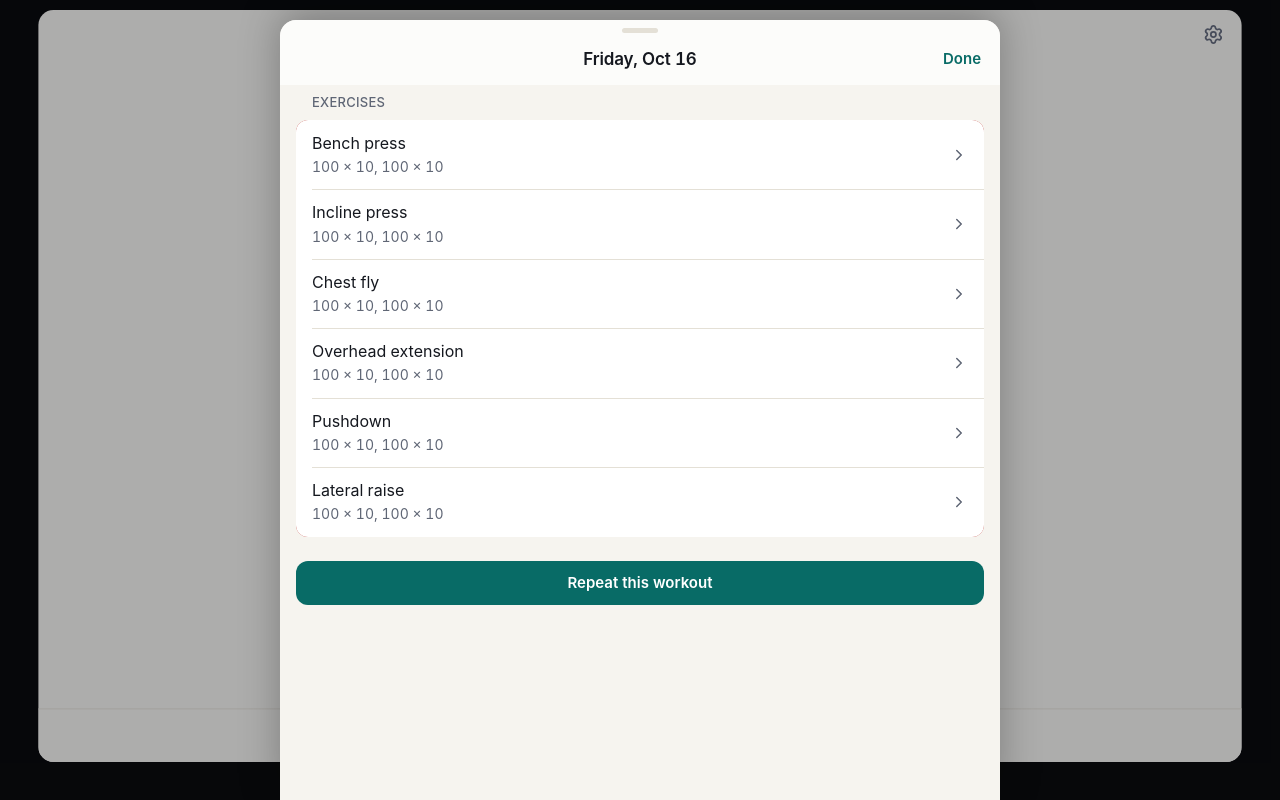
Test: Repeat this workout › skips archived exercises and says so
Click the button "Repeat this workout".
click(640, 583)  # box x1=296 y1=561 x2=984 y2=605
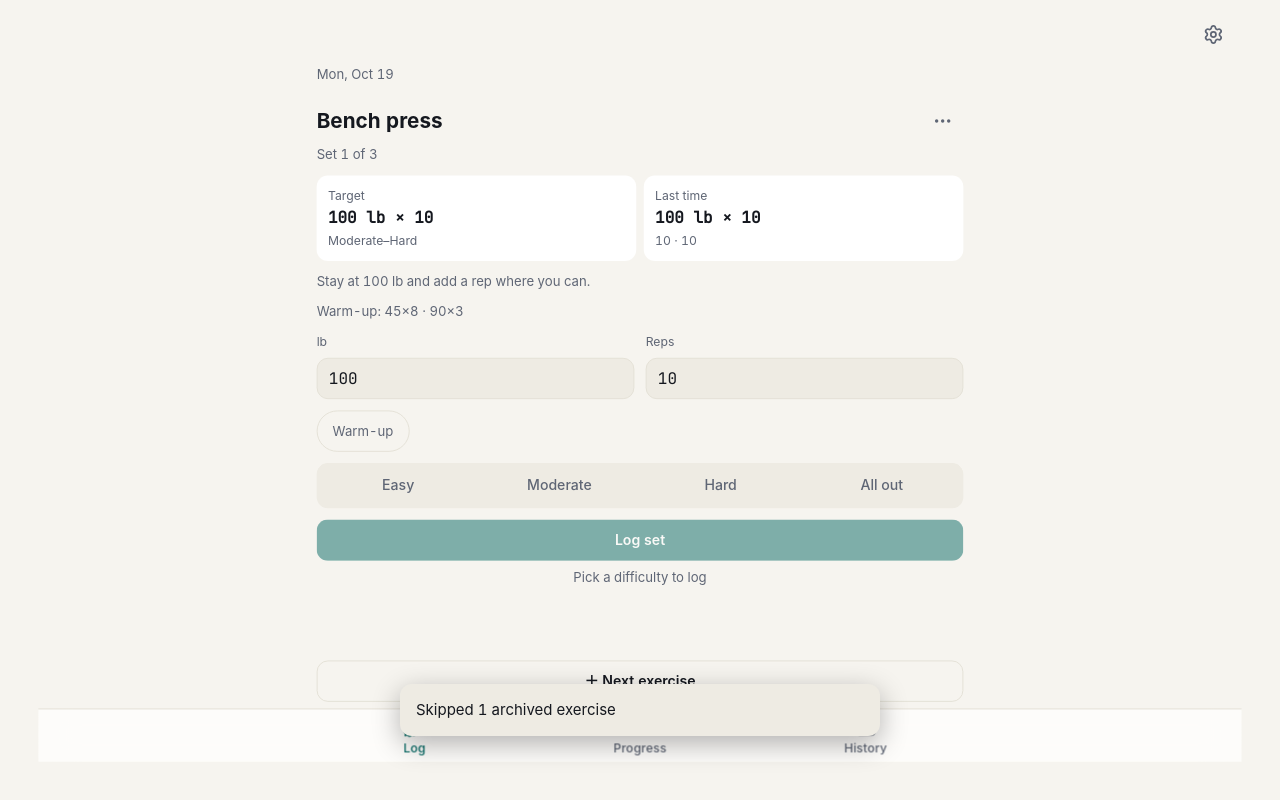
Expected: the message reads "Skipped 1 archived exercise", x1=416 y1=700 x2=616 y2=719
